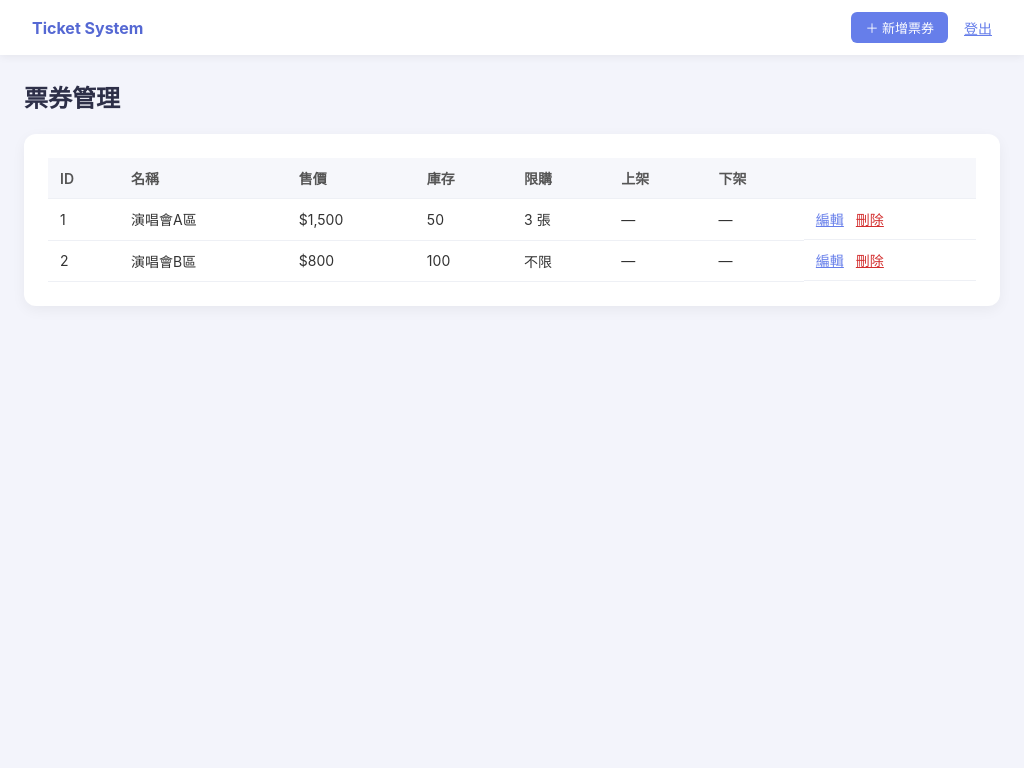
Test: AdminTickets 限購欄位 › 編輯既有票券 → 表單帶入現有限購值
The width and height of the screenshot is (1024, 768).
Expected: the text "演唱會A區" is shown, [119, 198, 287, 240]
Step 1. Click the button "編輯" in the row of "演唱會A區" → (830,219), box [816, 209, 844, 229]
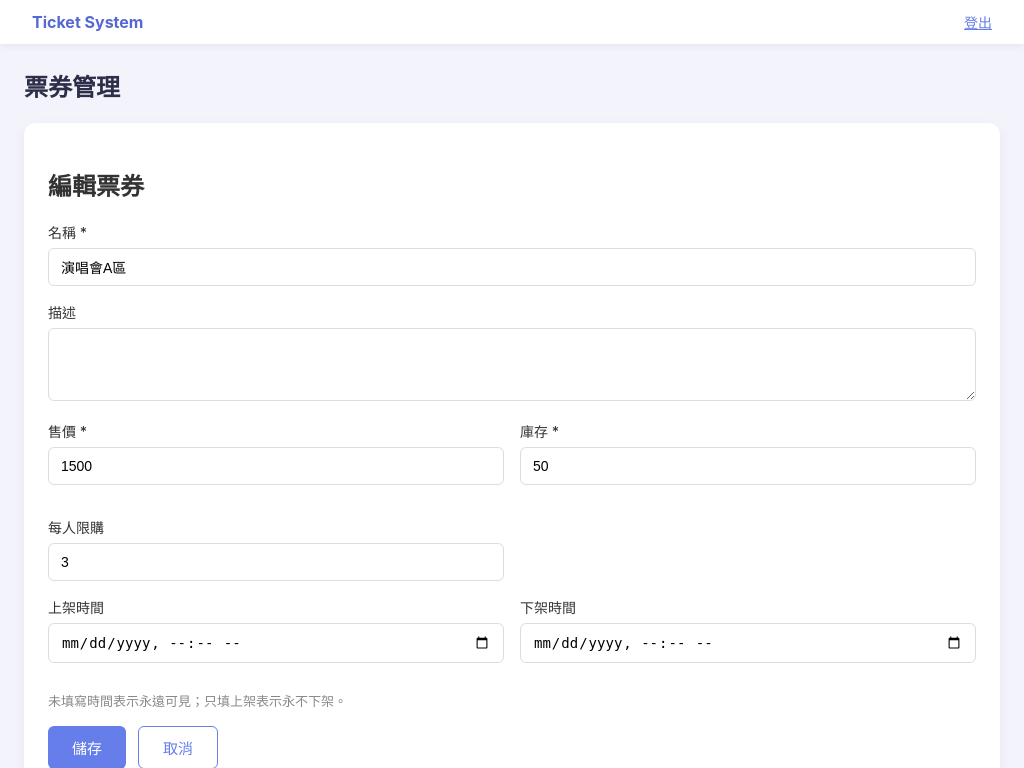
Now the number field below "每人限購" holds "3", box [48, 543, 504, 581]
